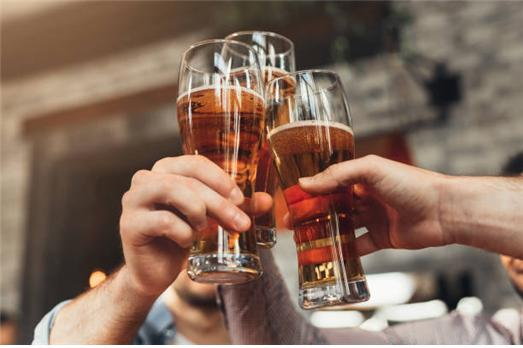alcohol: (268, 73, 374, 309), (178, 43, 267, 288), (221, 31, 299, 125)
